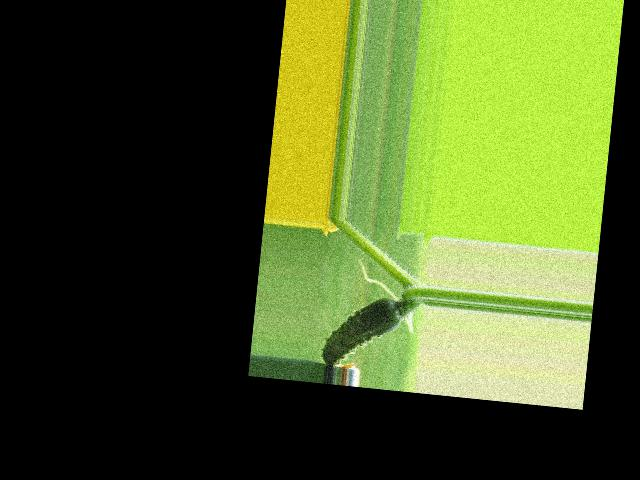cucumber: (320, 290, 402, 371)
